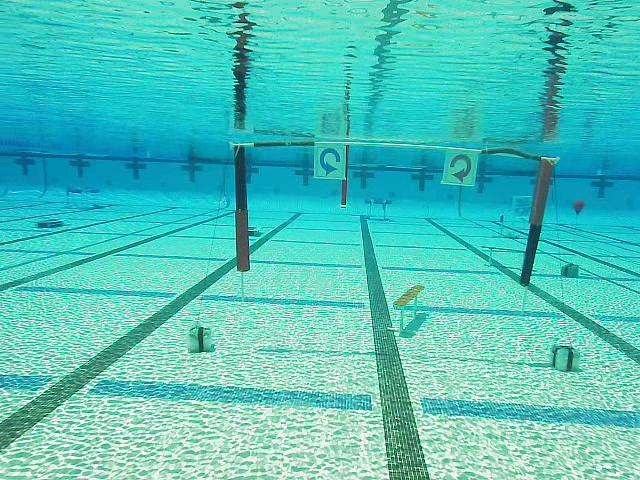buoy: (572, 200, 584, 217)
dropper: (36, 216, 64, 230)
gate: (234, 142, 554, 286)
gate_blue: (313, 144, 347, 180)
gate_leg_l: (235, 143, 250, 272)
gate_leg_r: (520, 158, 553, 286)
gate_red: (441, 152, 479, 186)
table: (64, 185, 102, 211), (363, 197, 393, 223)
torpedo: (512, 195, 535, 220)
